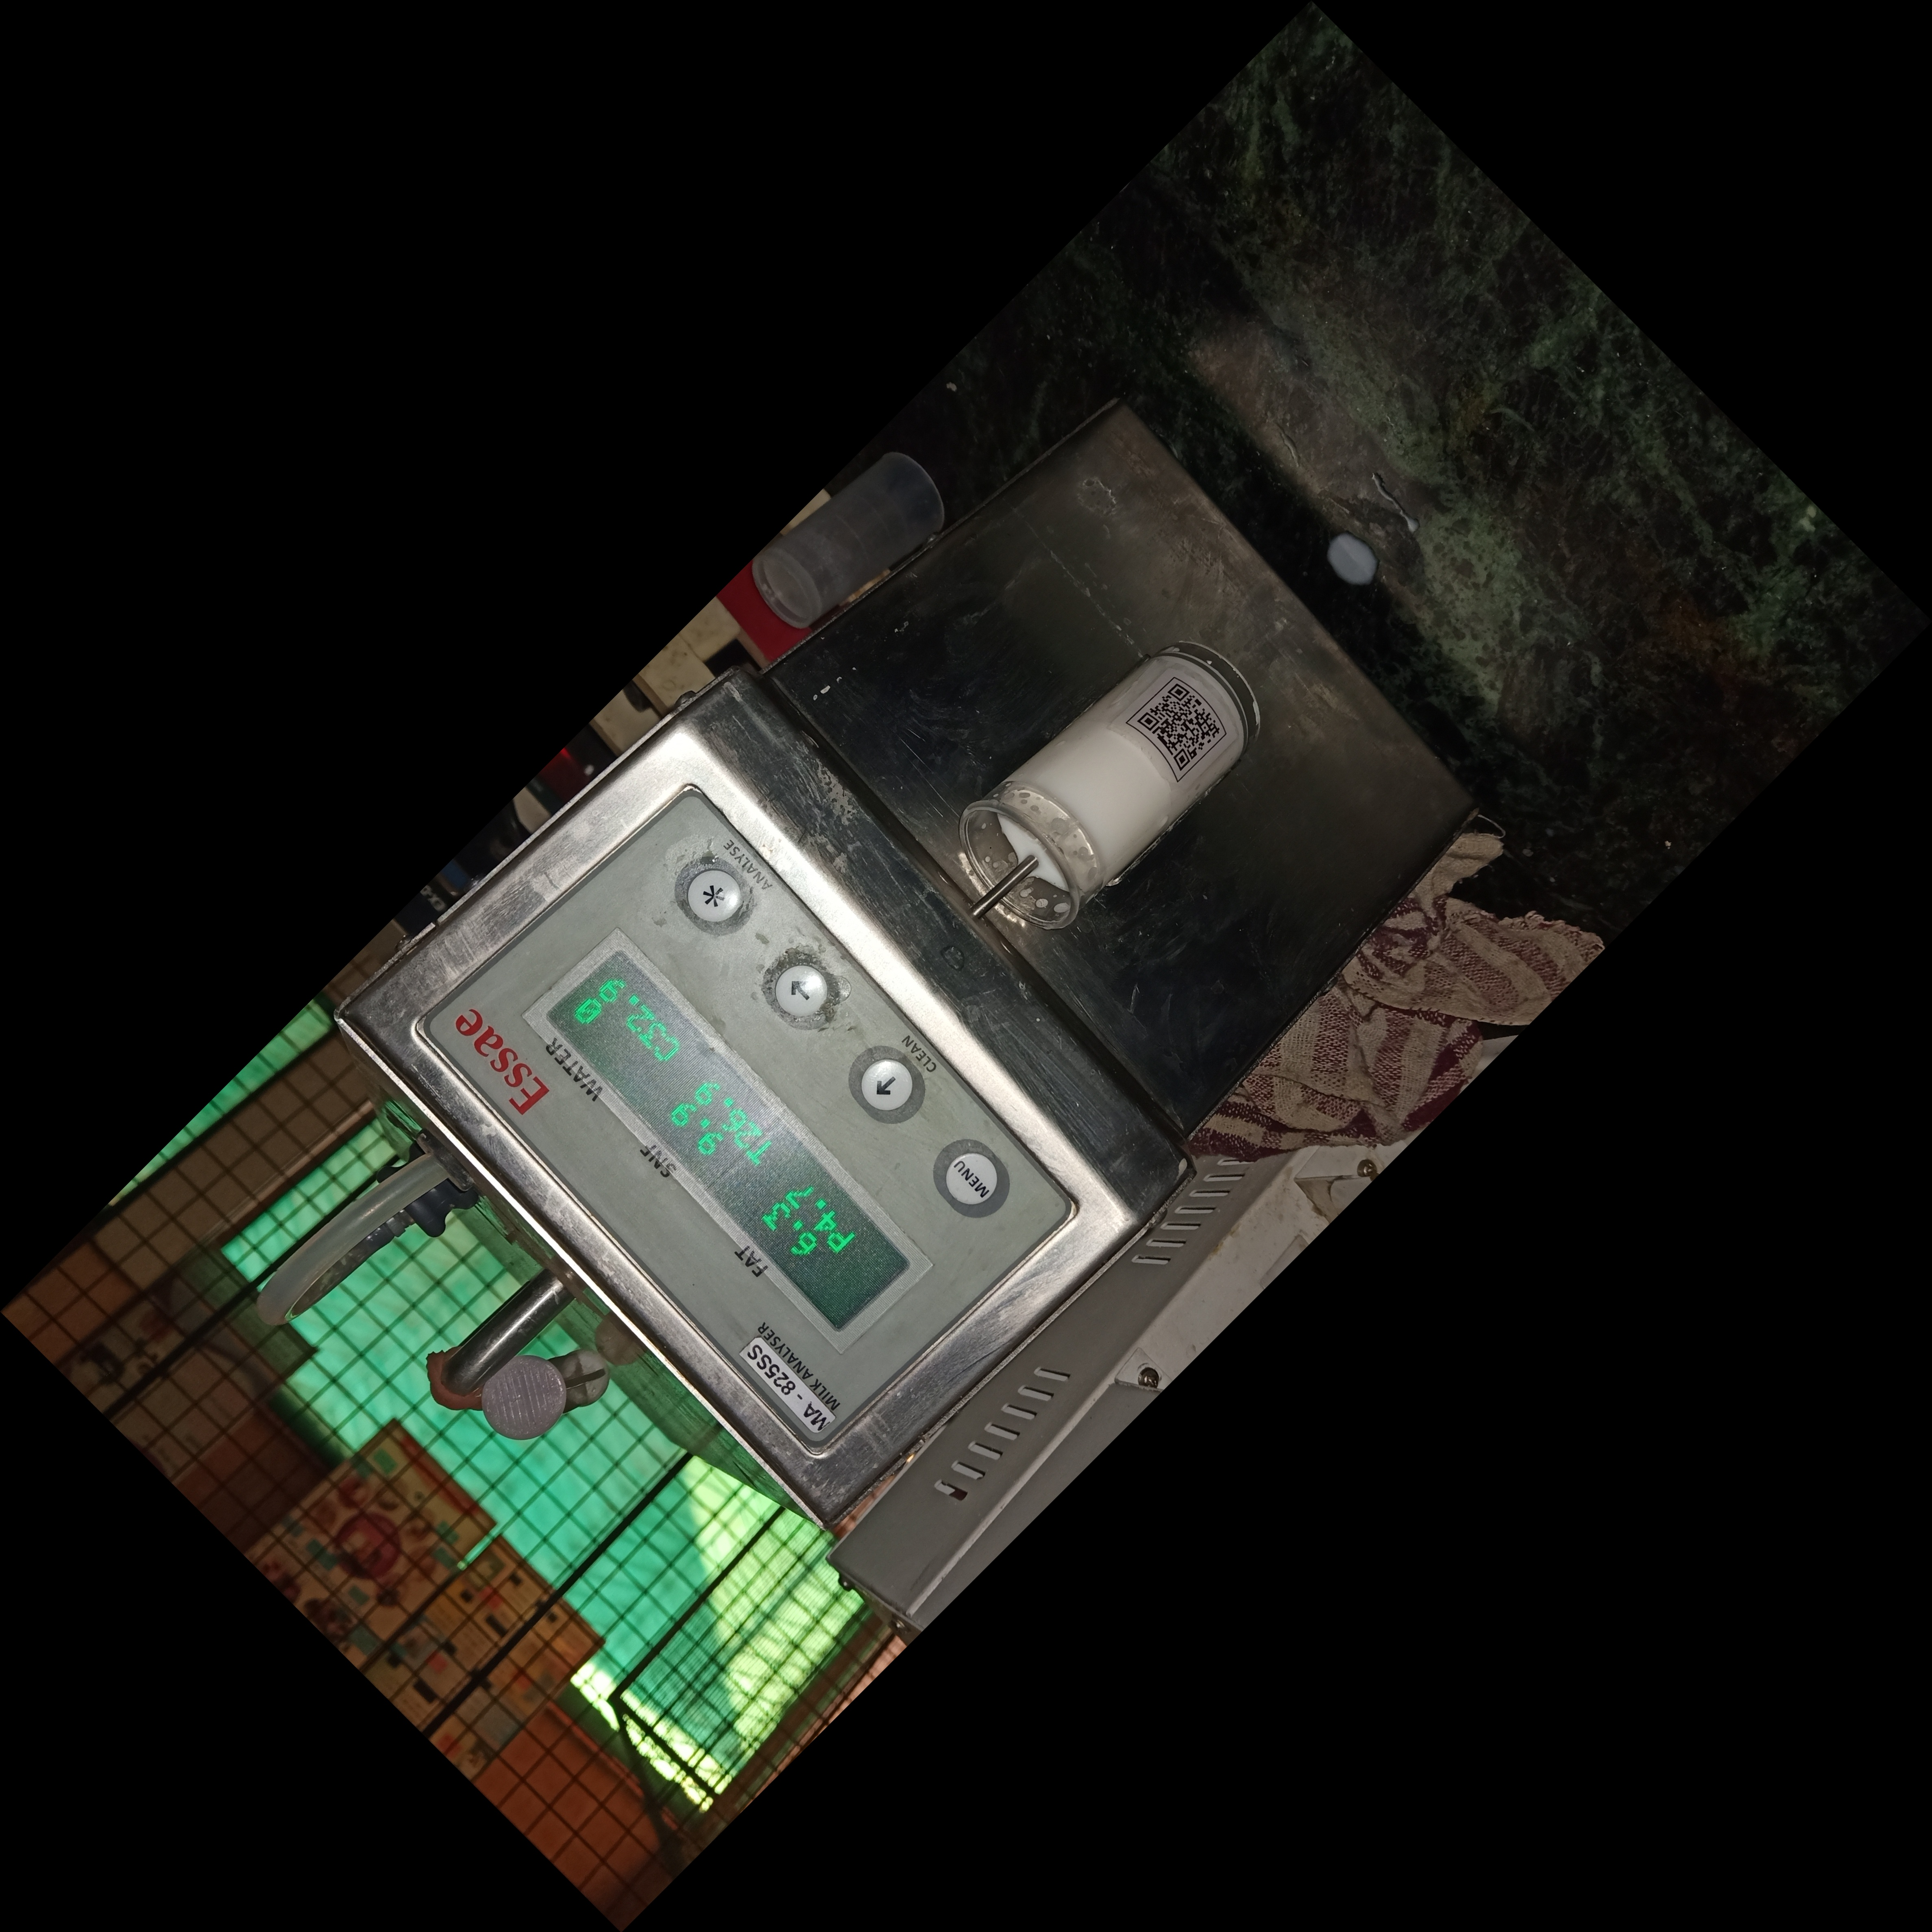lcd: (511, 932, 943, 1382)
qr: (1118, 662, 1240, 796)
